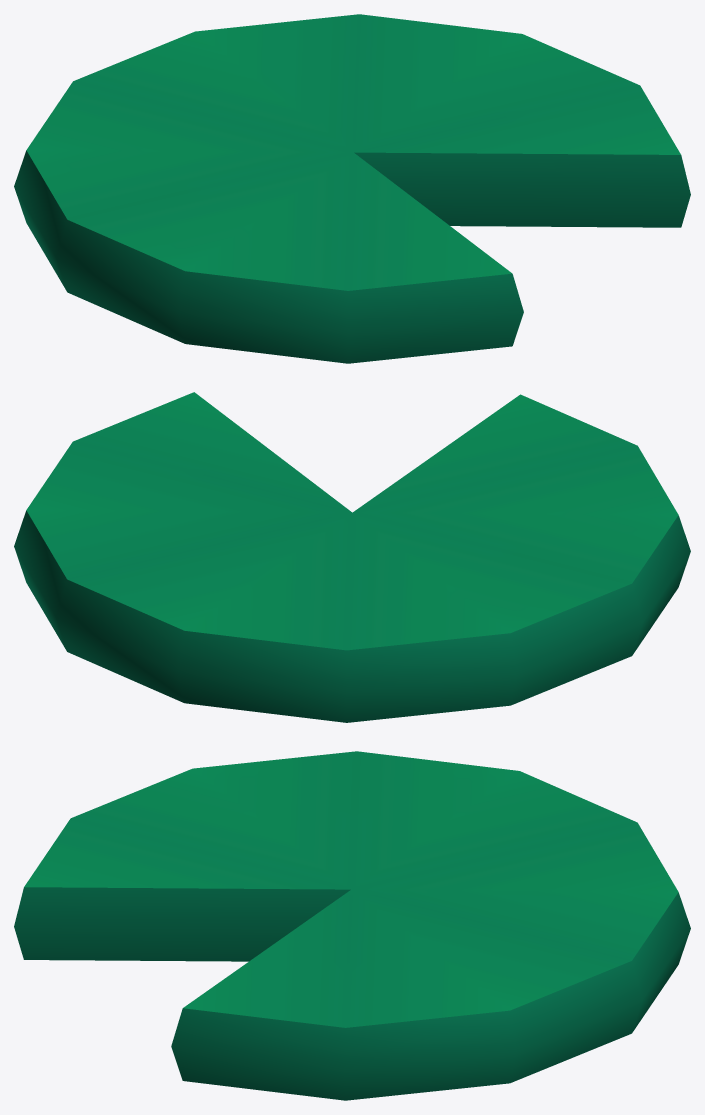
Rendered from waterlily_a.glb.
3 views of the same model, one above another, from view 1: azimuth 30°, elevation 25°; view 2: azimuth 150°, elevation 25°; view 3: azimuth 270°, elevation 25° (orthographic).
Visible parts, largest first — view 1: waterlily_A; view 2: waterlily_A; view 3: waterlily_A.
Part boxes in pixels (x1=…): waterlily_A: x1=14, y1=14, x2=690, y2=363; waterlily_A: x1=14, y1=392, x2=690, y2=722; waterlily_A: x1=14, y1=751, x2=690, y2=1100.
Size of the model in its own units: 0.1451 by 0.0172 by 0.1446.
1 material, 1 textured.
